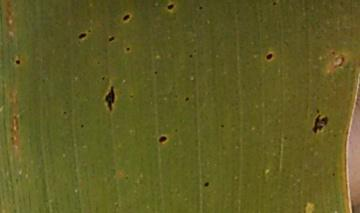tarspot: (104, 83, 118, 115), (310, 114, 330, 136), (73, 26, 92, 45), (119, 11, 133, 26), (152, 134, 172, 144), (263, 50, 276, 63), (13, 57, 23, 67), (106, 34, 116, 44), (165, 2, 175, 12), (182, 95, 191, 104), (219, 122, 228, 131), (61, 109, 71, 117), (270, 1, 281, 8), (150, 69, 160, 76), (124, 45, 132, 53), (203, 180, 211, 188), (313, 108, 322, 115), (78, 123, 86, 130), (184, 54, 195, 59), (198, 5, 204, 12), (99, 76, 106, 82), (95, 61, 103, 66), (332, 171, 337, 178)
